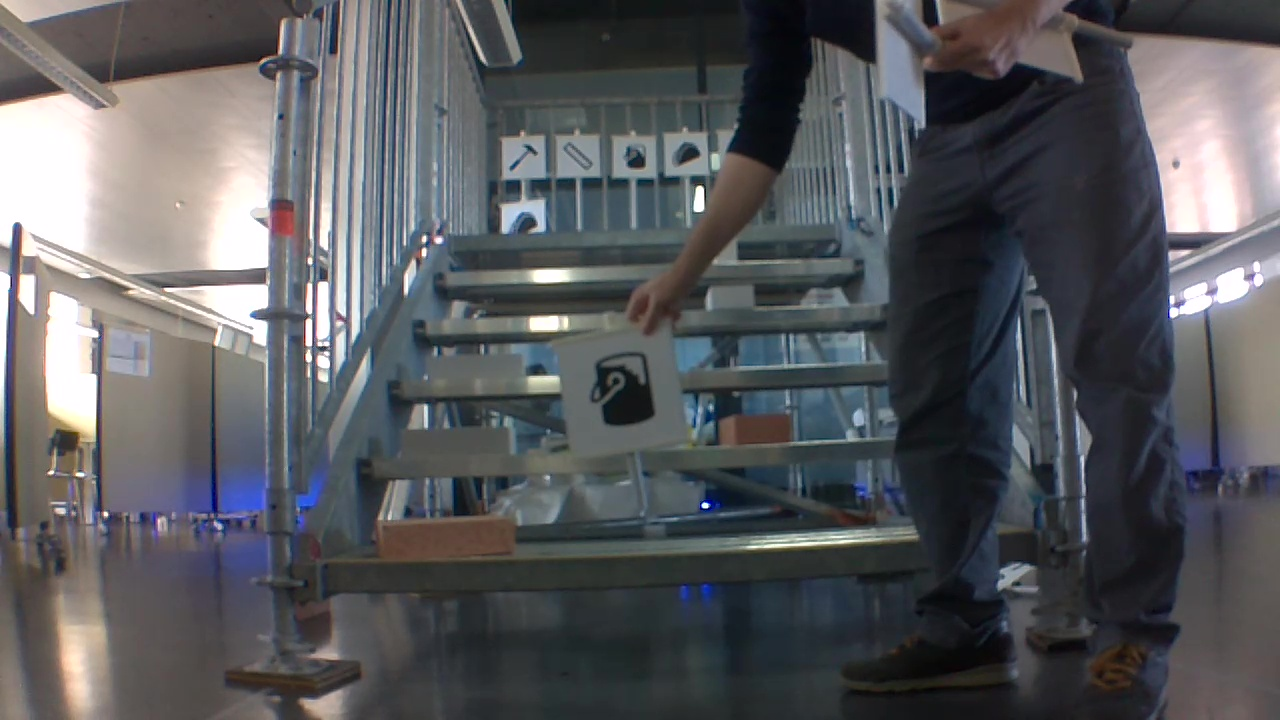brick: (373, 517, 519, 561), (392, 426, 523, 460), (423, 354, 526, 382), (714, 411, 792, 443), (701, 283, 755, 310)
bucket: (588, 346, 659, 433), (621, 140, 650, 173)
edge: (310, 540, 922, 597)
hammer: (505, 143, 538, 174)
ruler: (566, 137, 598, 174)
taco: (668, 140, 706, 169), (510, 208, 543, 234)
